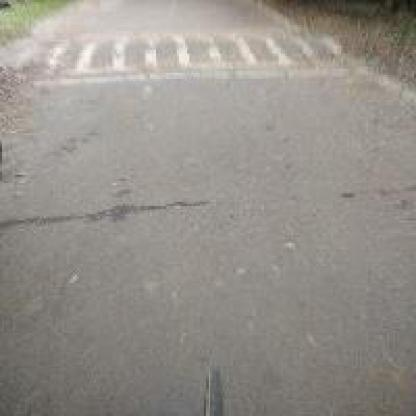Speed Bump: (0, 21, 360, 91)
